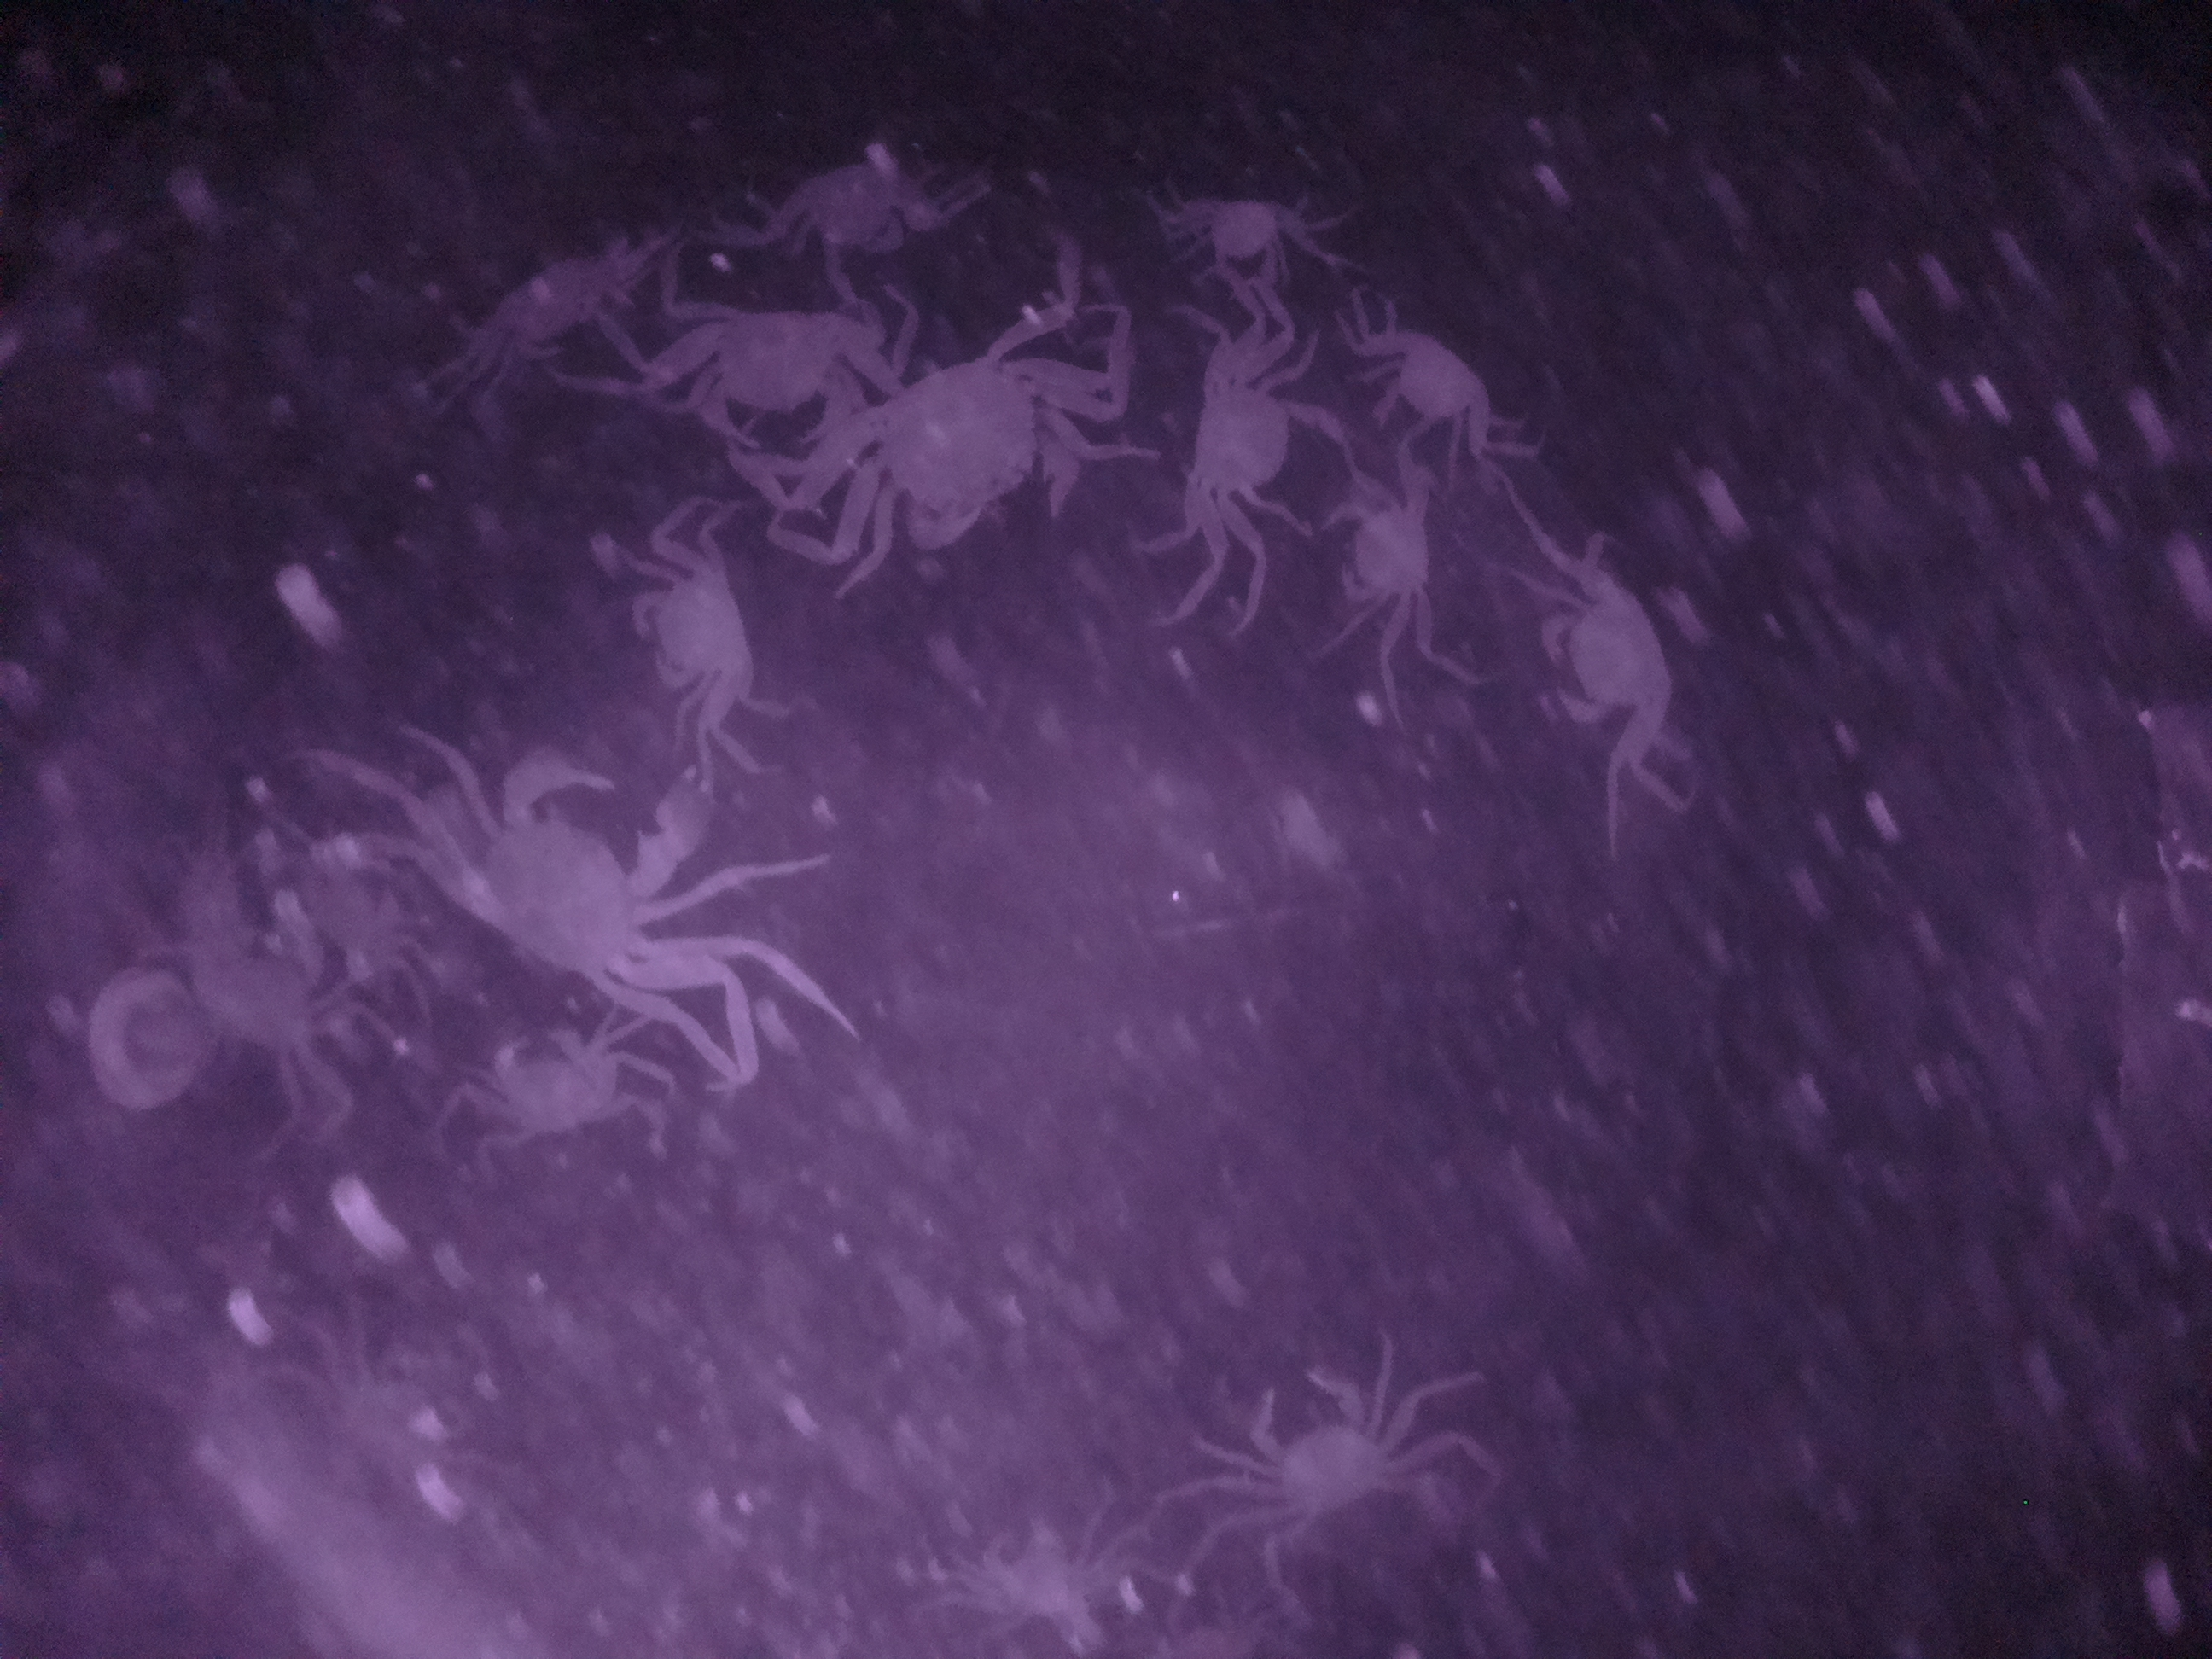Crab: (465, 730, 735, 1014), (843, 335, 1089, 556), (1224, 1356, 1423, 1554), (1146, 364, 1332, 538), (1533, 570, 1693, 762), (625, 549, 770, 714), (1313, 483, 1474, 627), (1371, 310, 1517, 451), (1169, 167, 1317, 291)
